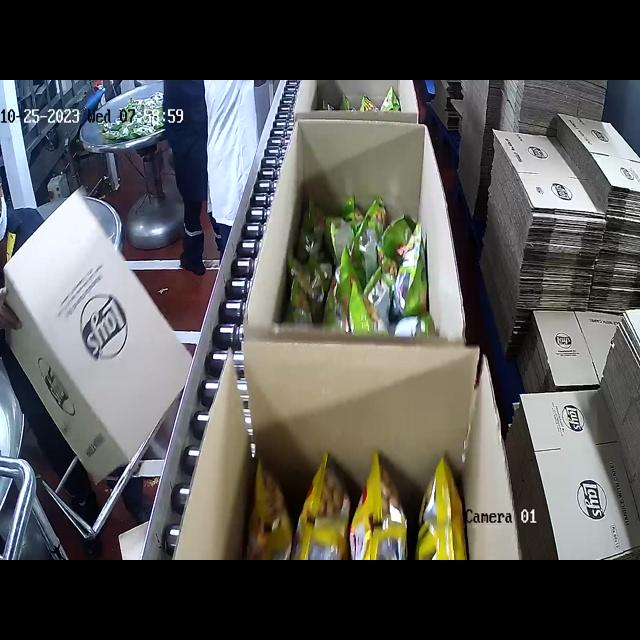salted: (243, 441, 471, 560)
yogurt: (294, 183, 446, 339)
